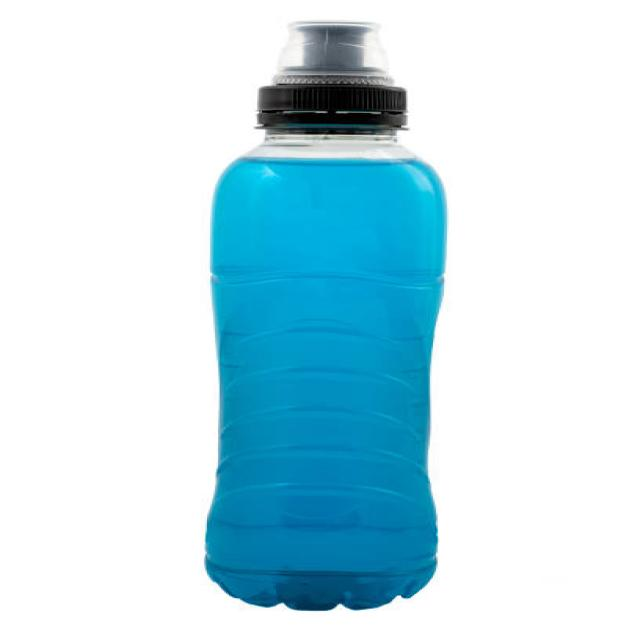blue_bottle: (198, 14, 452, 608)
